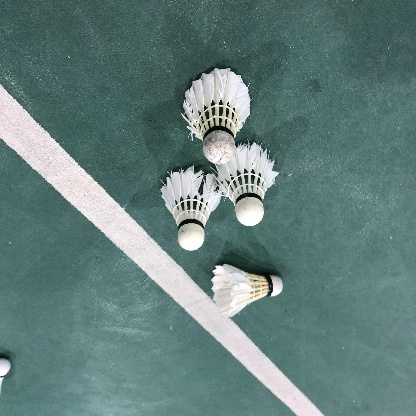ball_single: (183, 68, 251, 164), (213, 143, 279, 226), (160, 165, 222, 251), (211, 264, 283, 318), (0, 357, 10, 394)
